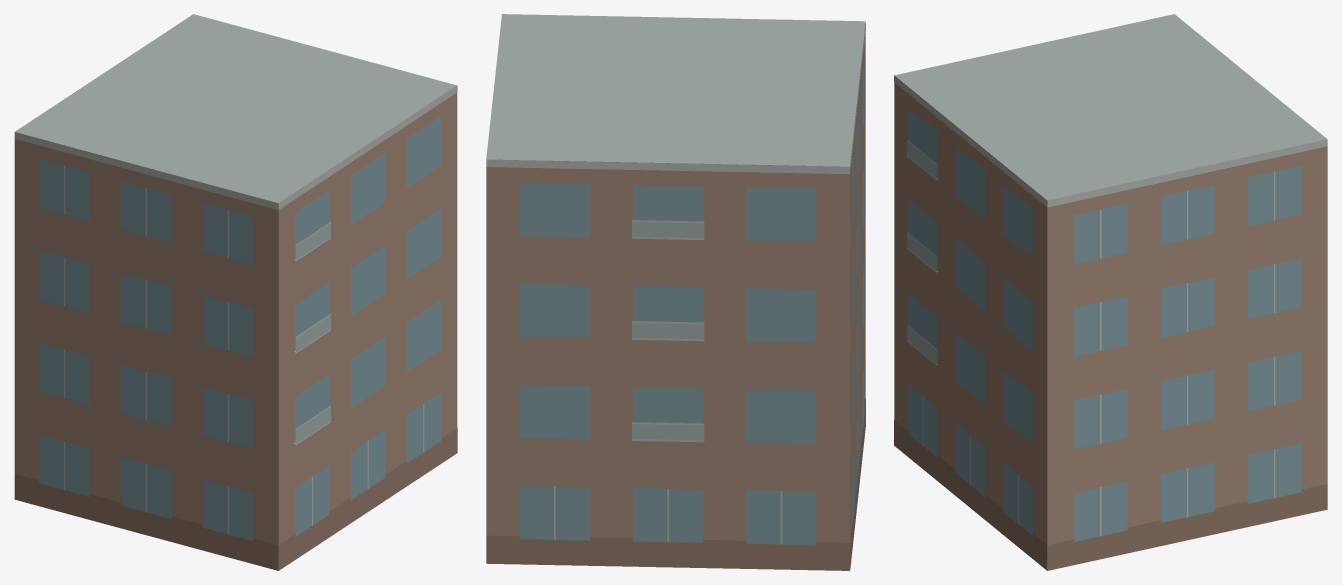
The model's file is survey-upis-32830672.glb.
The picture shows the model from 3 angles, left to right: view 1: azimuth 30°, elevation 25°; view 2: azimuth 150°, elevation 25°; view 3: azimuth 270°, elevation 25°; orthographic projection. The views are drawn at different scales.
Parts seen in each view (by area): view 1: survey-upis-32830672.tmp; view 2: survey-upis-32830672.tmp; view 3: survey-upis-32830672.tmp.
Boxes of the visible parts, <box> form: survey-upis-32830672.tmp: <box>14,14,457,570</box>; survey-upis-32830672.tmp: <box>486,14,865,570</box>; survey-upis-32830672.tmp: <box>894,14,1327,570</box>.
Size of the model in its own units: 14.06 by 13 by 13.8.
